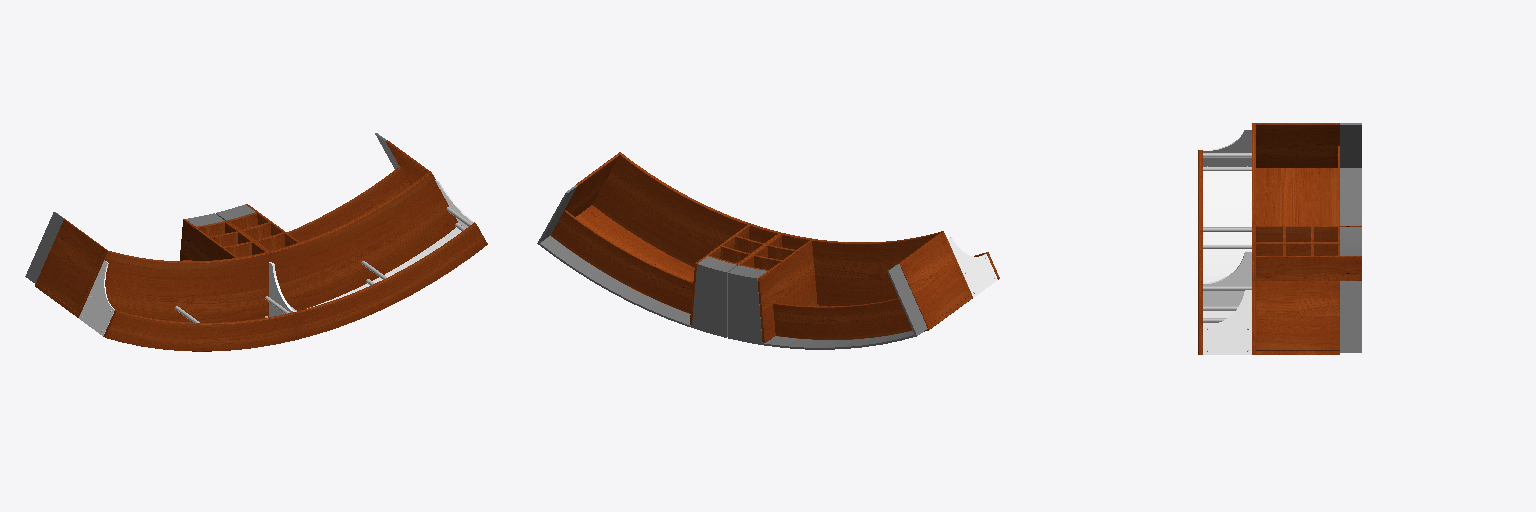
The picture shows the model from 3 angles: view 1: azimuth 30°, elevation 25°; view 2: azimuth 150°, elevation 25°; view 3: azimuth 270°, elevation 25°; orthographic projection.
Visible parts, largest first — view 1: Bar_Table07, Bar_Table25, Bar04, Bar13, Bar25, Bar_Table08, Bar16, Bar12, Bar24, Bar22, Bar05; view 2: Bar_Table07, Bar_Table25, Bar_Table08, Bar_Table31, Bar25, Bar16, Bar08, Bar01, Bar17, Bar02, Bar10, Bar12 (+2 smaller); view 3: Bar22, Bar11, Bar14, Bar25, Bar07, Bar03, Bar21, Bar10, Bar_Table10, Bar16, Bar_Table06, Bar24 (+2 smaller).
Boxes of the visible parts, x1=… form: Bar_Table07: x1=269, y1=171, x2=457, y2=310; Bar_Table25: x1=77, y1=250, x2=269, y2=322; Bar04: x1=295, y1=222, x2=487, y2=339; Bar13: x1=103, y1=310, x2=296, y2=351; Bar25: x1=36, y1=219, x2=106, y2=312; Bar_Table08: x1=287, y1=167, x2=409, y2=241; Bar16: x1=180, y1=219, x2=237, y2=260; Bar12: x1=79, y1=260, x2=114, y2=334; Bar24: x1=26, y1=212, x2=64, y2=281; Bar22: x1=386, y1=140, x2=428, y2=184; Bar05: x1=307, y1=227, x2=461, y2=308; Bar_Table07: x1=593, y1=152, x2=780, y2=267; Bar_Table25: x1=781, y1=231, x2=972, y2=306; Bar_Table08: x1=551, y1=210, x2=692, y2=313; Bar_Table31: x1=773, y1=298, x2=911, y2=339; Bar25: x1=898, y1=233, x2=968, y2=326; Bar16: x1=758, y1=240, x2=817, y2=342; Bar08: x1=692, y1=256, x2=736, y2=335; Bar01: x1=537, y1=236, x2=727, y2=337; Bar17: x1=728, y1=265, x2=766, y2=342; Bar02: x1=550, y1=205, x2=694, y2=312; Bar10: x1=728, y1=327, x2=927, y2=349; Bar12: x1=948, y1=237, x2=996, y2=295; Bar22: x1=1256, y1=281, x2=1339, y2=350; Bar11: x1=1256, y1=168, x2=1337, y2=225; Bar14: x1=1203, y1=171, x2=1251, y2=282; Bar25: x1=1256, y1=123, x2=1339, y2=167; Bar07: x1=1256, y1=256, x2=1361, y2=280; Bar03: x1=1203, y1=290, x2=1251, y2=353; Bar21: x1=1340, y1=281, x2=1361, y2=350; Bar10: x1=1340, y1=168, x2=1361, y2=225; Bar_Table10: x1=1203, y1=252, x2=1251, y2=305; Bar16: x1=1256, y1=226, x2=1361, y2=241; Bar_Table06: x1=1256, y1=243, x2=1339, y2=255; Bar24: x1=1340, y1=123, x2=1361, y2=167.
Bounding box in the file's own units: 124 × 33.58 × 45.67.
4 materials, 1 textured.